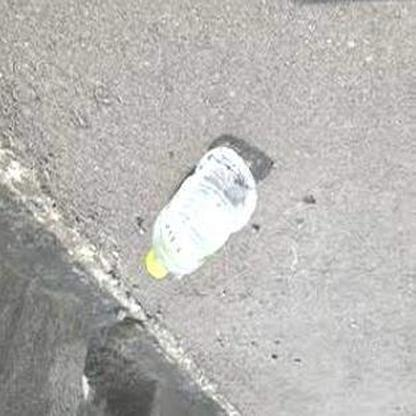plastic bottle: (146, 146, 256, 281)
